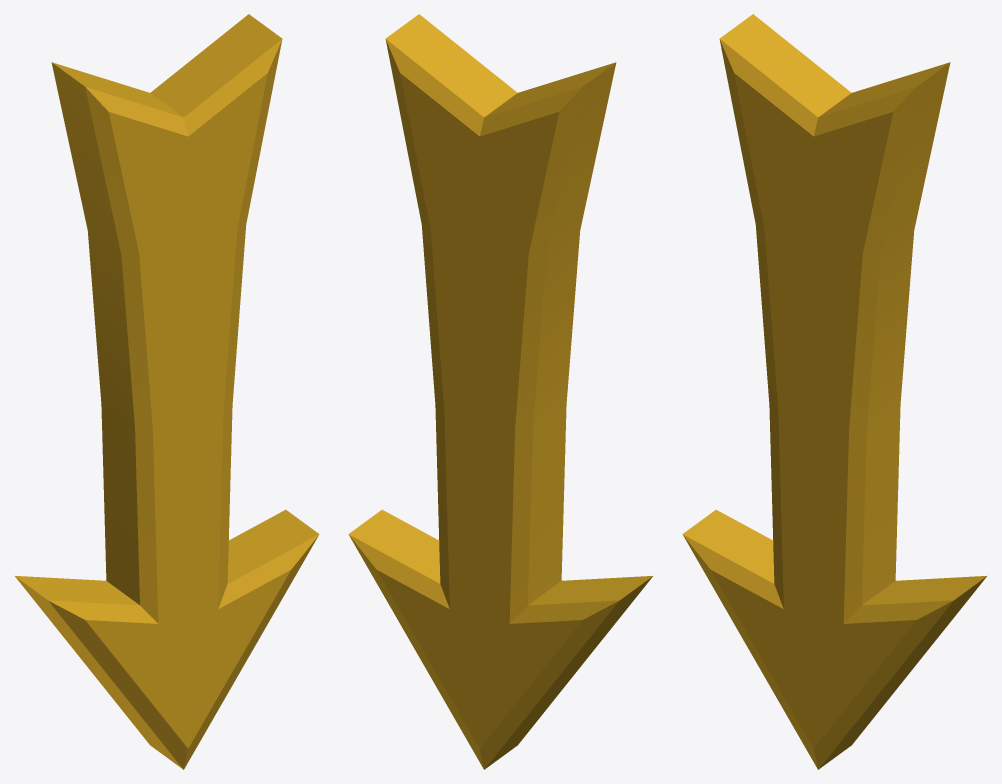
Rendered from arrow.fbx.
The picture shows the model from 3 angles, left to right: view 1: azimuth 30°, elevation 25°; view 2: azimuth 150°, elevation 25°; view 3: azimuth 330°, elevation 25°; orthographic projection.
Visible parts, largest first — view 1: pCube2; view 2: pCube2; view 3: pCube2.
Boxes of the visible parts, x1,y1,x2,y2 form: pCube2: [14, 14, 319, 769]; pCube2: [348, 14, 653, 769]; pCube2: [682, 14, 987, 769].
Size of the model in its own units: 2.84 by 7.08 by 0.7708.
